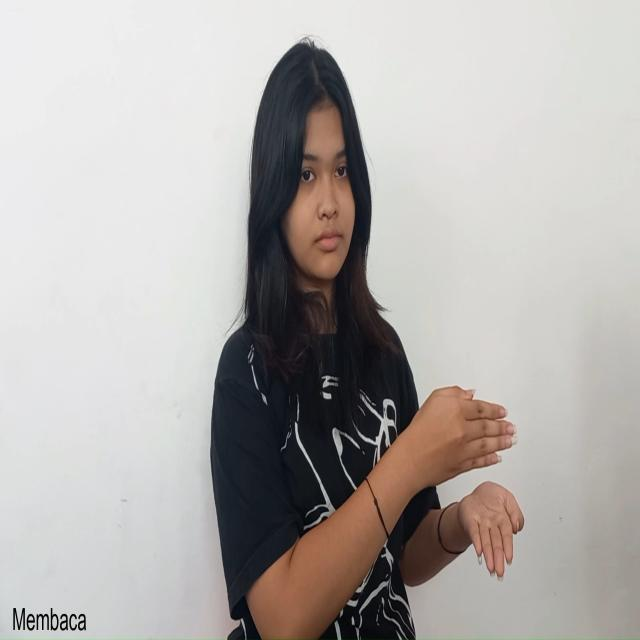Membaca -BISINDO-: (411, 381, 527, 585)
